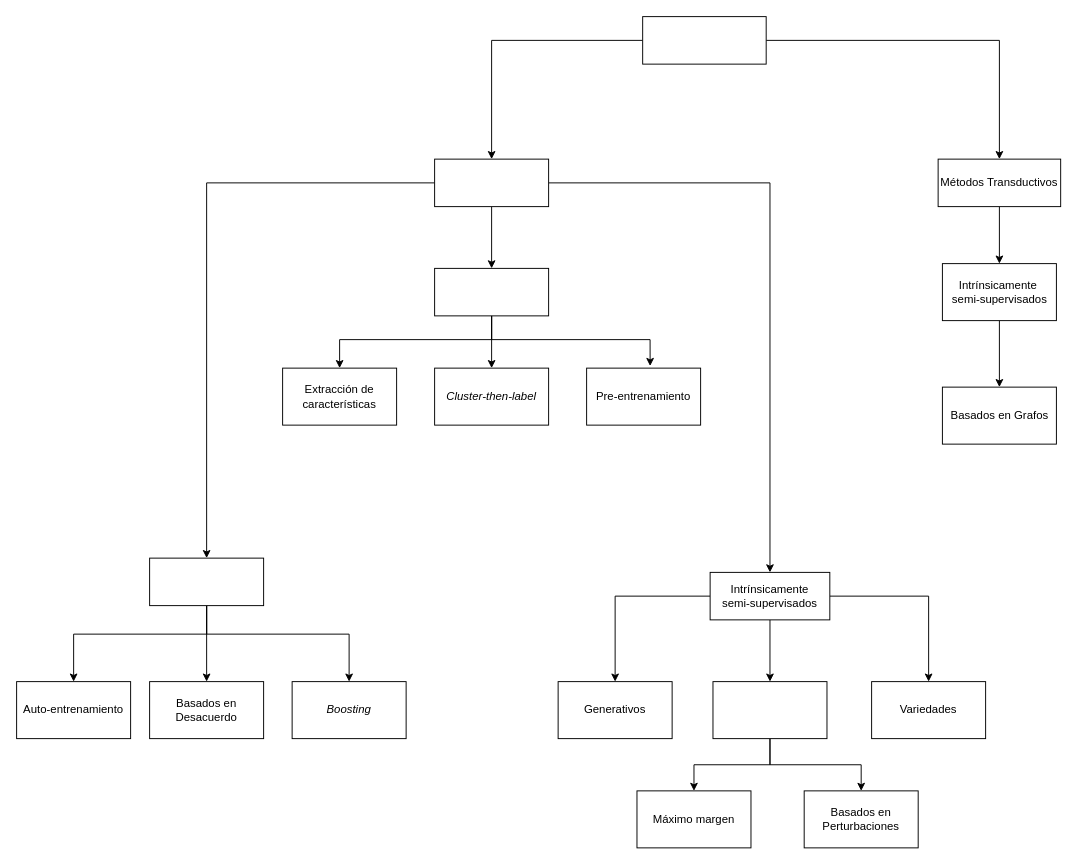
This 1077x865 diagram has some shape labels left out. Each missing label, with the box of its shape:
Clasificación Semi Supervisada: (642, 16, 766, 64)
Discriminantes: (712, 681, 827, 739)
Envolventes: (149, 557, 264, 606)
Métodos Inductivos: (434, 158, 549, 207)
Preprocesado no supervisado: (434, 267, 549, 316)
